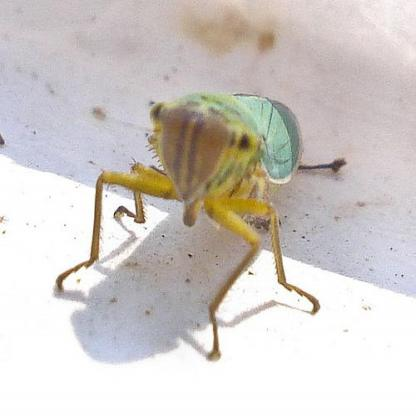Green-Leafhopper: (47, 88, 318, 362)
